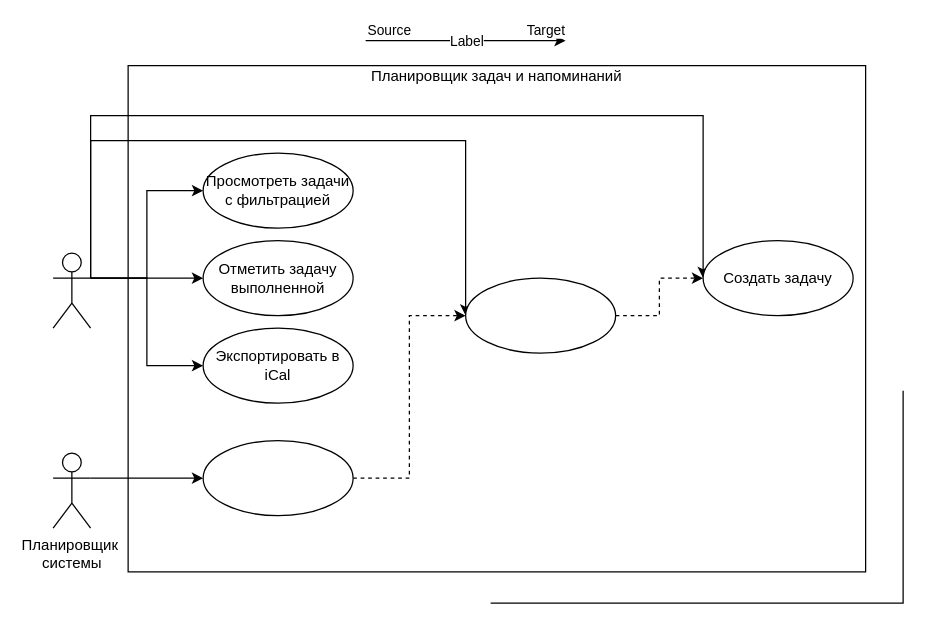
This 926x626 diagram has some shape labels left out. Here are the shapes that lost their labels. From the top down, the centre of each, then its label:
point 71,290: Пользователь
point 540,315: Установить напоминание
point 277,477: Сгенерировать напоминание
